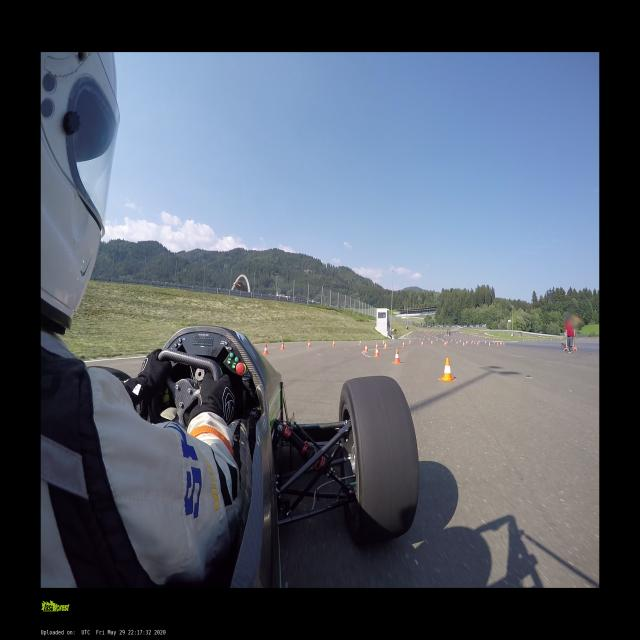orange_cone: (440, 358, 456, 381), (392, 349, 401, 364), (373, 345, 380, 357), (263, 344, 269, 355), (364, 344, 368, 353), (280, 342, 285, 349), (375, 342, 379, 350), (401, 341, 405, 347), (331, 340, 335, 346), (307, 341, 310, 347), (384, 342, 387, 348), (421, 341, 424, 346), (382, 341, 385, 344), (359, 340, 361, 344), (476, 343, 478, 345), (488, 343, 490, 345), (430, 340, 432, 342), (496, 343, 498, 345), (463, 342, 464, 346), (409, 340, 410, 343), (444, 342, 445, 344)
